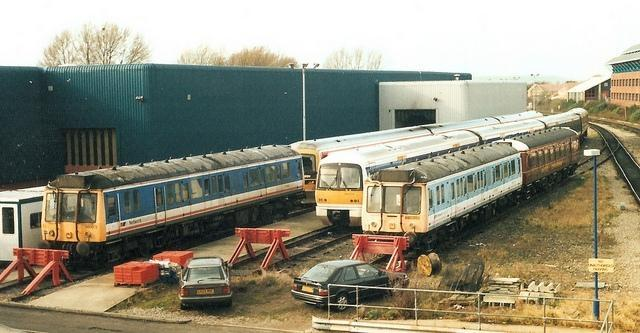car: (291, 260, 411, 312), (180, 257, 233, 311)
